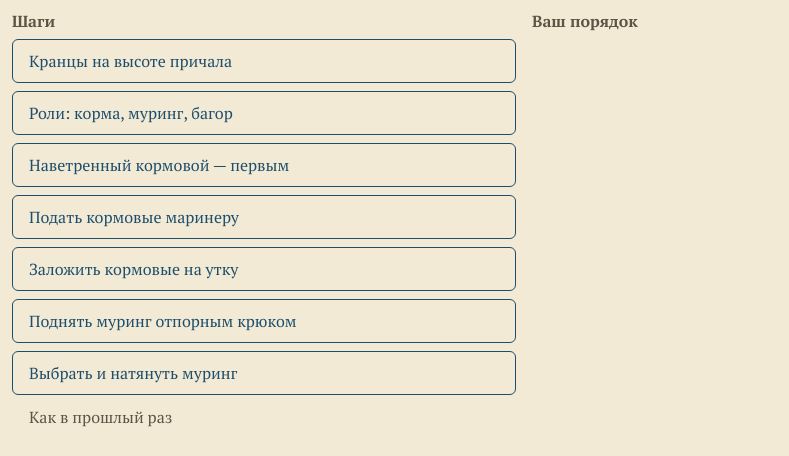
Test: OrderPicker: as last time › a last order lacking the new steps fills the overlap in last order and says N of M
Click the button "Как в прошлый раз" at (101, 417), box [12,395,189,439]
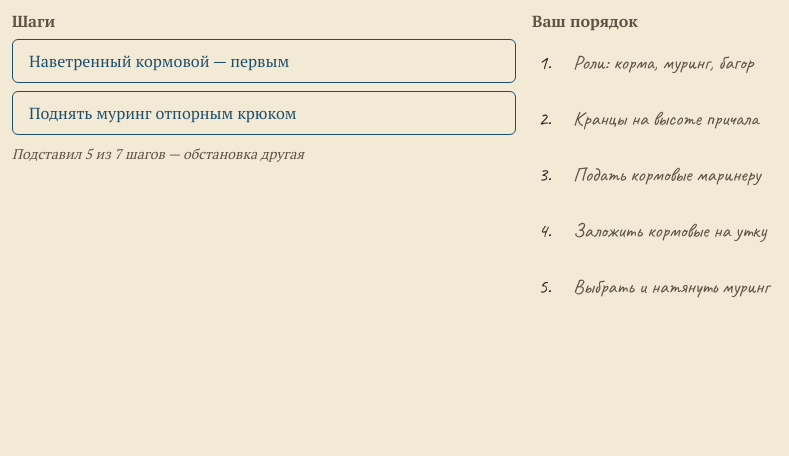
Now the text "Подставил 5 из 7 шагов — обстановка другая" is shown, box [12,144,304,163]
Now the button "Как в прошлый раз" is gone
